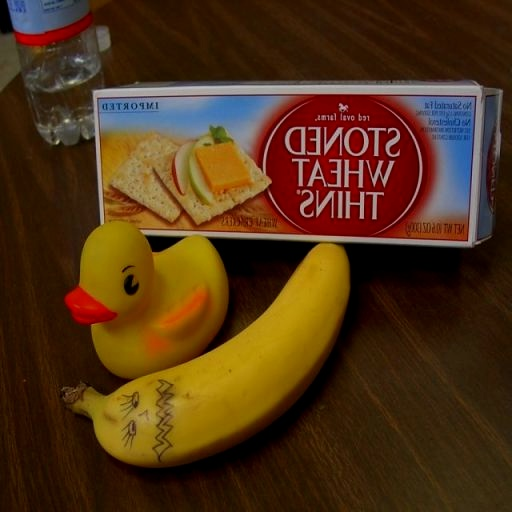fruit: (63, 244, 349, 467), (188, 136, 213, 203), (171, 140, 195, 194)
